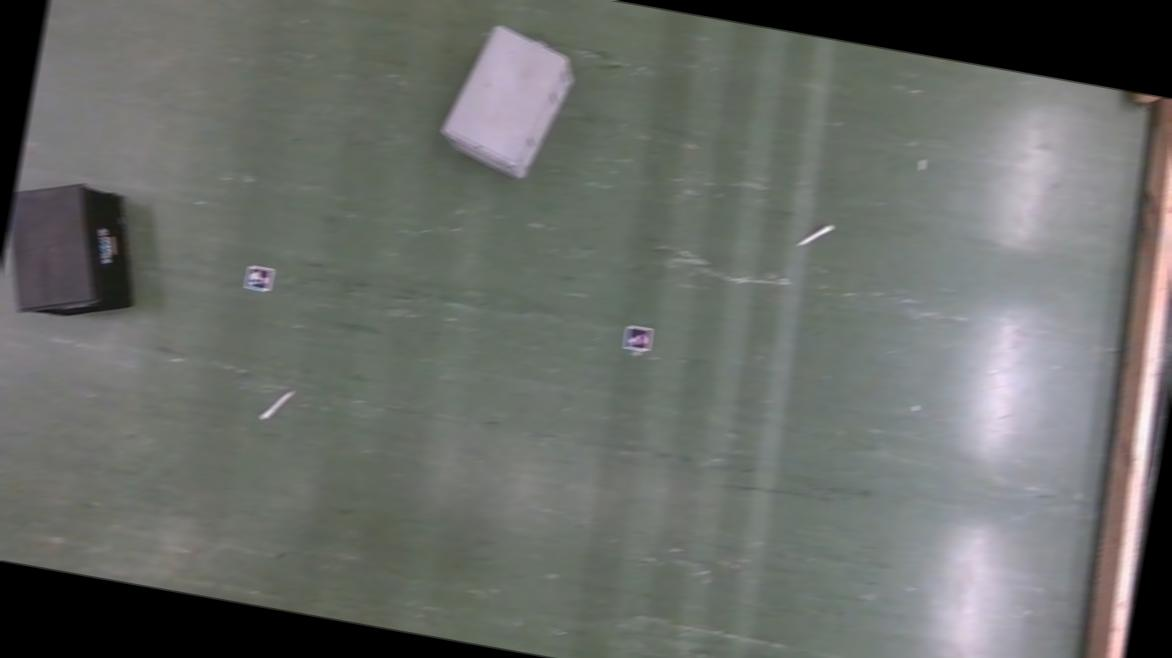probes: (258, 386, 292, 424), (796, 218, 833, 250)
rako: (436, 17, 584, 188), (0, 171, 154, 331)
